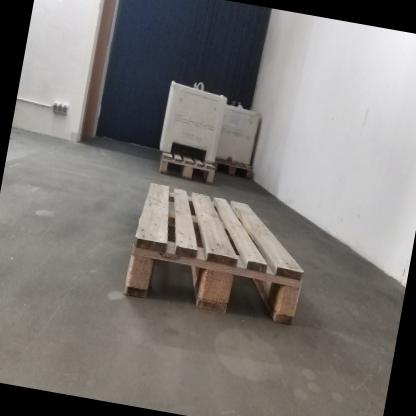BoxFace: (121, 177, 310, 330)
